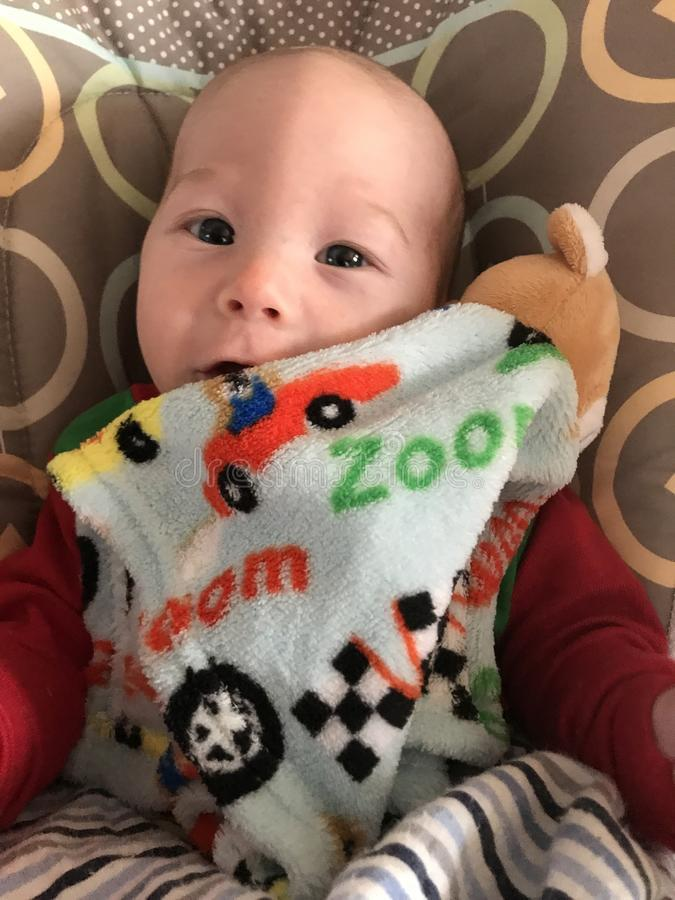No Mask: (105, 52, 570, 544)
